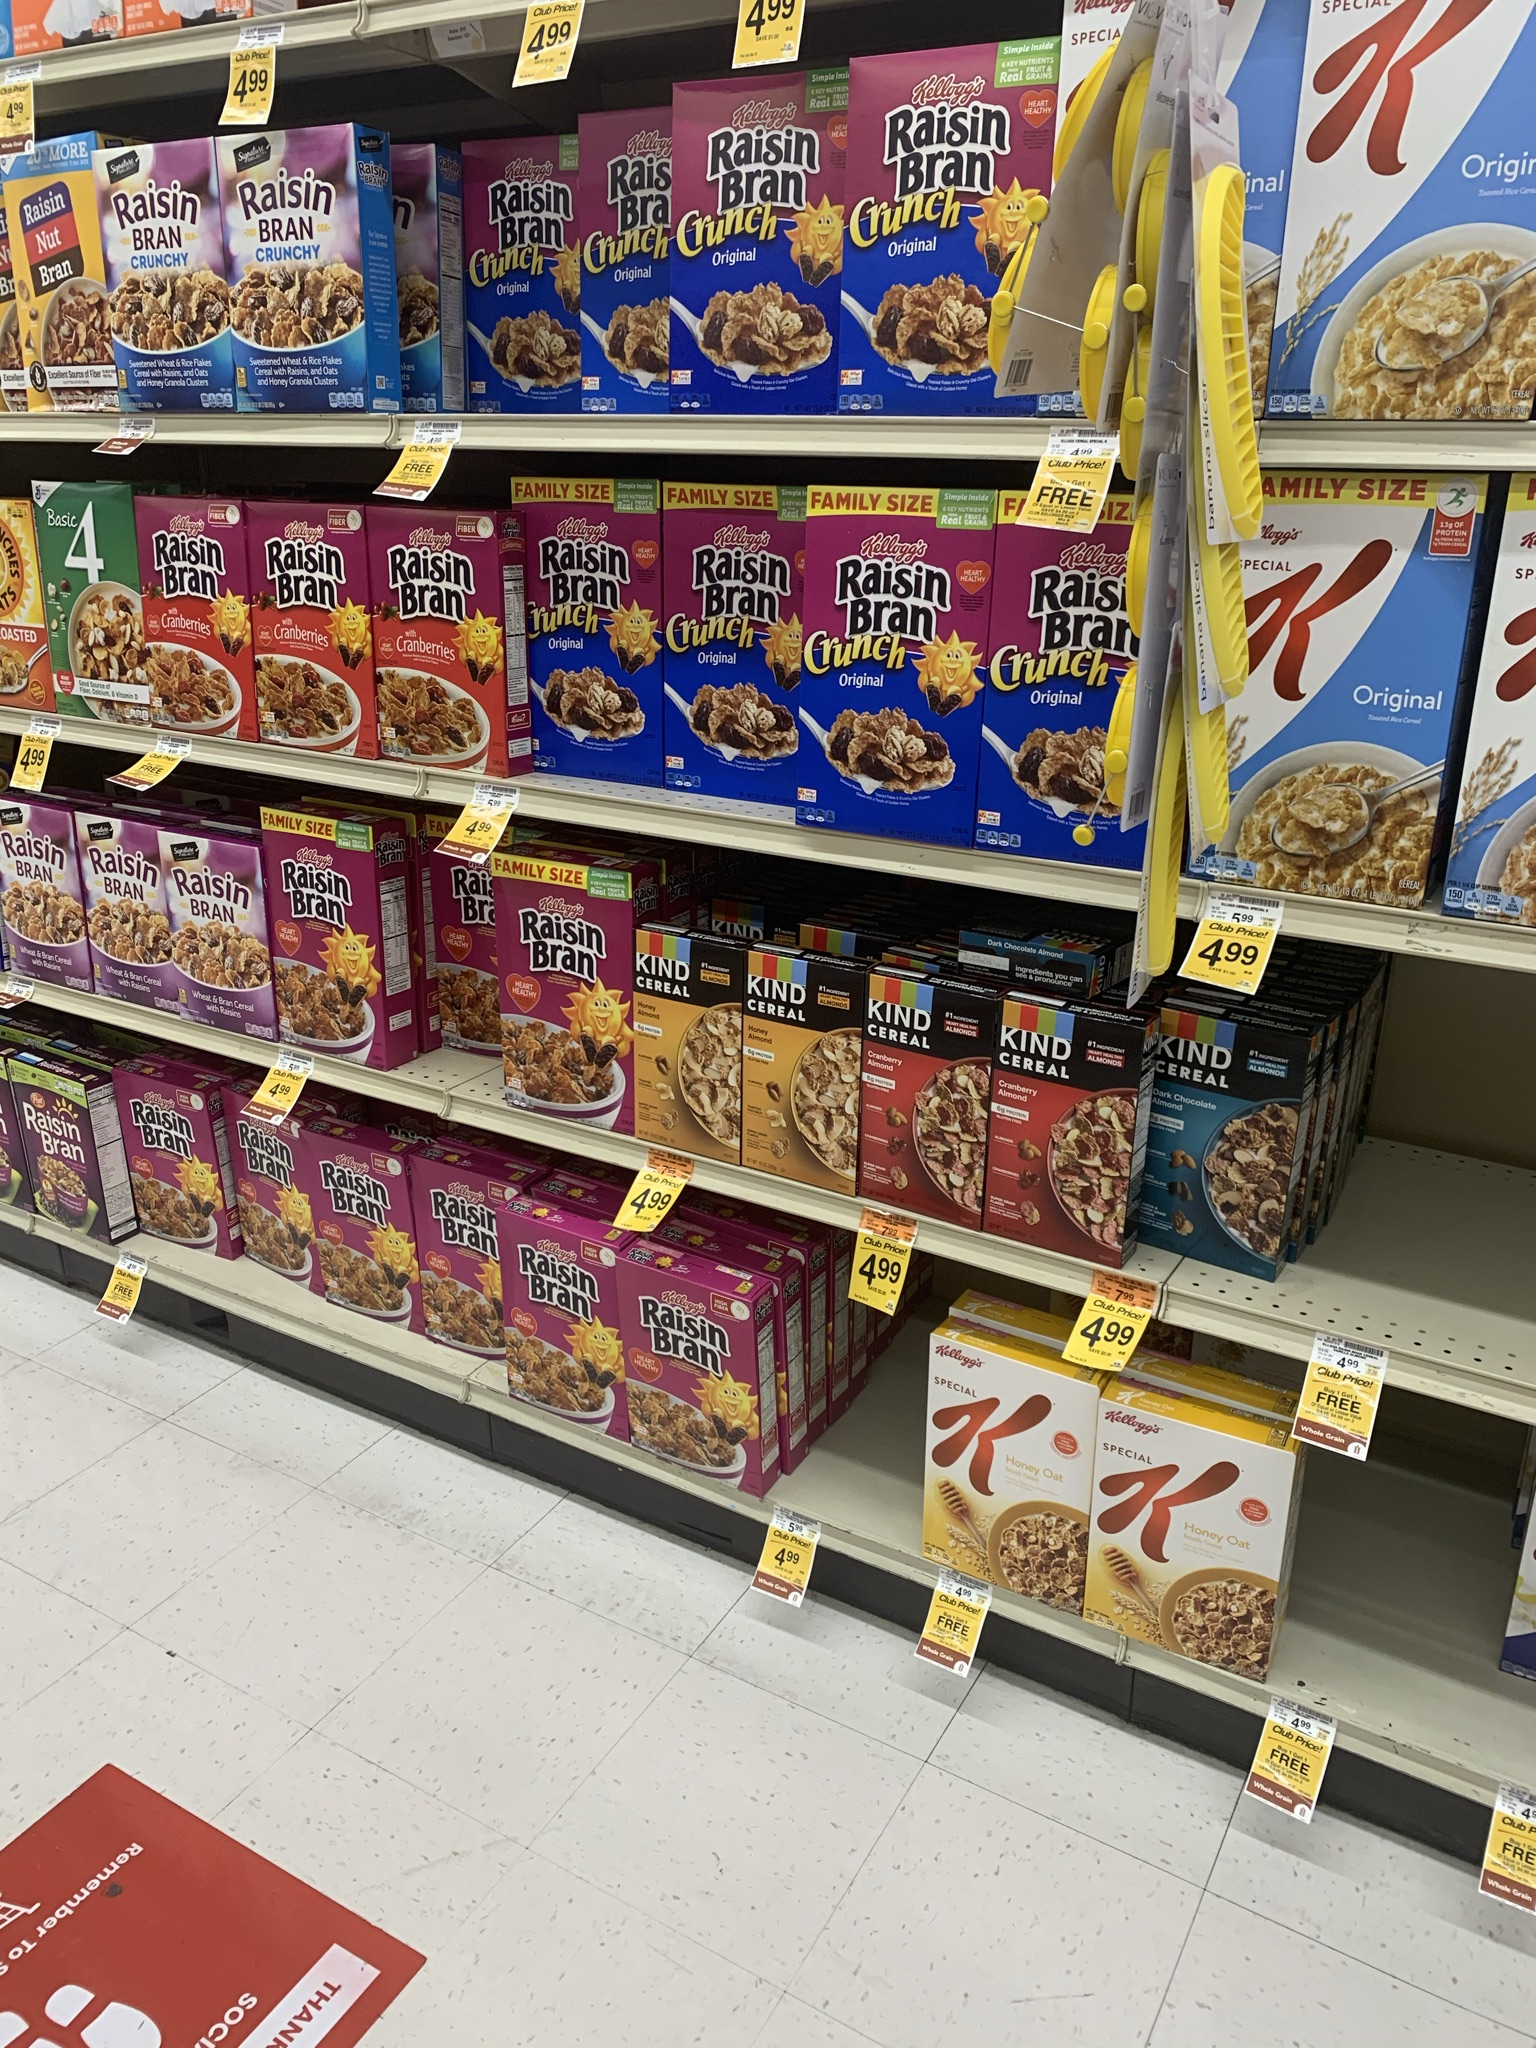cereal: (1192, 481, 1484, 892), (1292, 2, 1536, 439), (845, 53, 1057, 413), (805, 476, 971, 847), (671, 77, 844, 410), (1087, 1392, 1278, 1680), (1142, 1035, 1334, 1285), (511, 474, 663, 777), (218, 127, 378, 414), (933, 1326, 1087, 1621), (663, 477, 795, 801), (484, 847, 628, 1143), (90, 152, 239, 418), (366, 510, 511, 774), (445, 131, 582, 410), (995, 1006, 1134, 1256), (248, 505, 374, 761), (565, 103, 670, 410), (870, 971, 987, 1222), (749, 947, 863, 1205), (495, 1218, 629, 1432), (35, 484, 153, 722), (144, 500, 263, 727), (623, 1266, 750, 1479), (274, 814, 376, 1059), (644, 942, 749, 1166), (303, 1127, 411, 1334), (210, 1093, 319, 1292), (171, 839, 274, 1040), (418, 1155, 510, 1374), (110, 1072, 215, 1243), (82, 819, 165, 1021), (3, 808, 81, 993)
